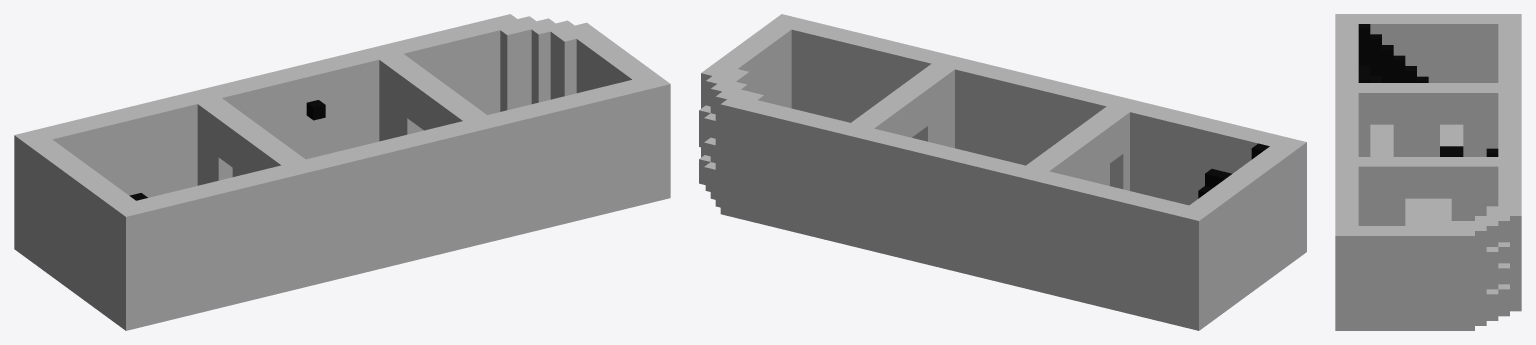
File: test_model_2obj_45x9x16_1_color_1.obj
The picture shows the model from 3 angles, left to right: view 1: azimuth 30°, elevation 25°; view 2: azimuth 150°, elevation 25°; view 3: azimuth 270°, elevation 25°; orthographic projection. The views are drawn at different scales.
Bounding box in the file's own units: 4.5 × 0.9 × 1.6.
1 material, 1 textured.
